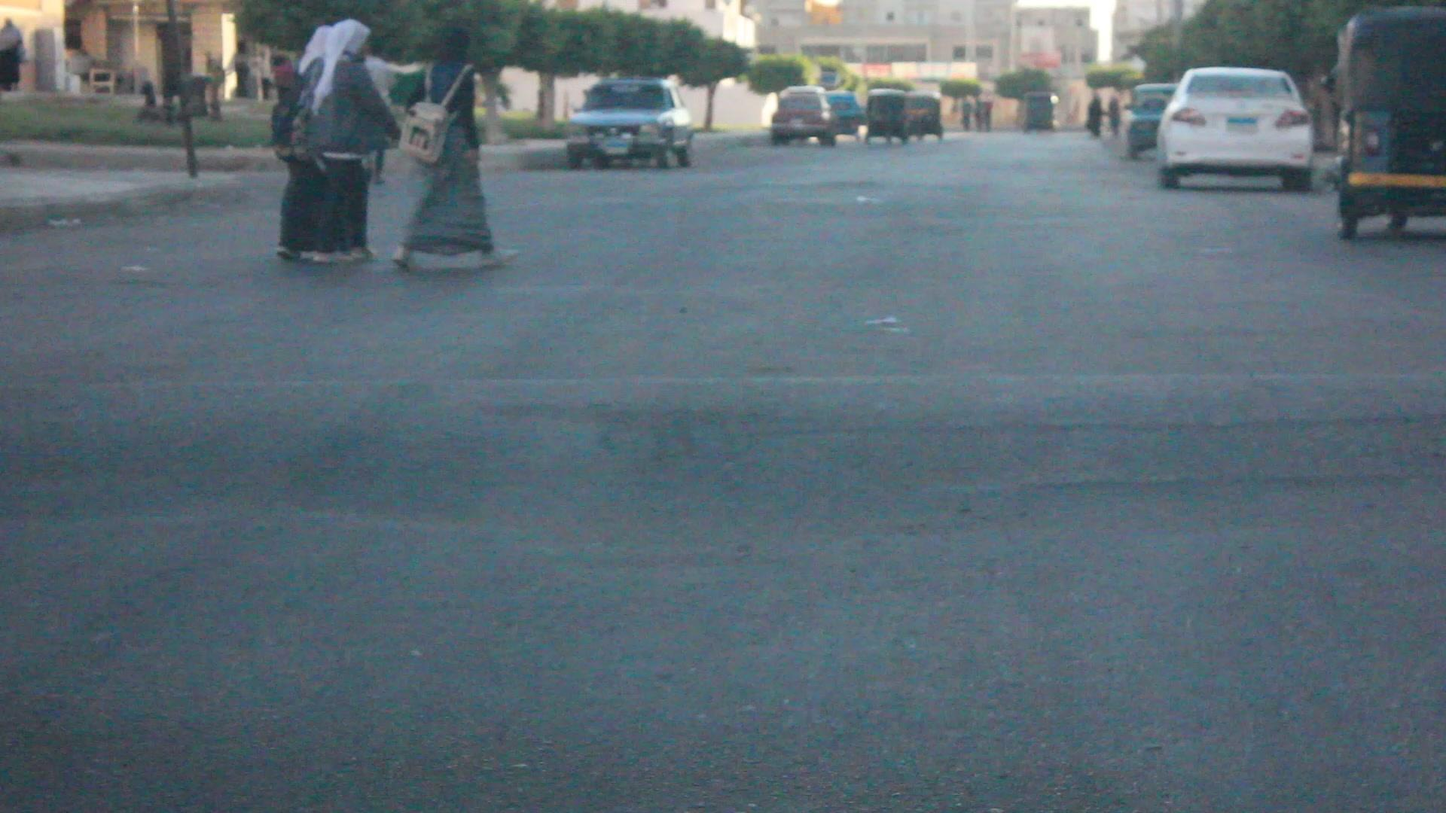Bump: (2, 369, 1446, 508)
